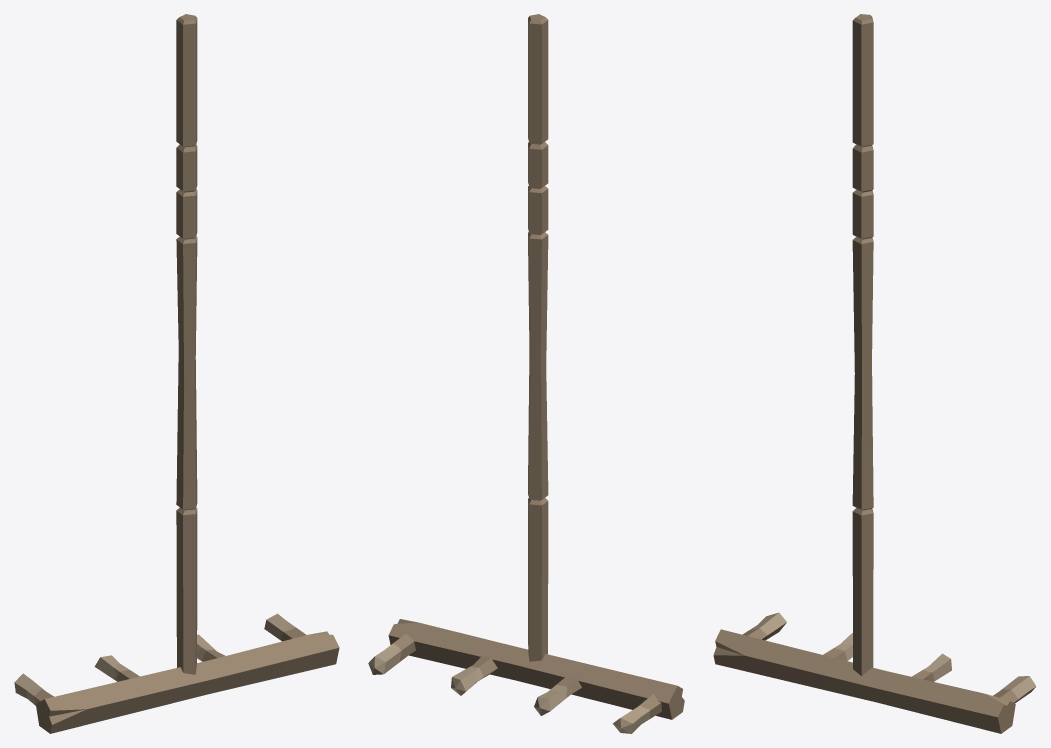
Rendered from samurai_SM_Prop_Rake_01.gltf.
3 renders of one model, left to right at view 1: azimuth 30°, elevation 25°; view 2: azimuth 150°, elevation 25°; view 3: azimuth 330°, elevation 25°, orthographic. The views are drawn at different scales.
Parts seen in each view (by area): view 1: SM_Prop_Rake_01; view 2: SM_Prop_Rake_01; view 3: SM_Prop_Rake_01.
Boxes of the visible parts, x1=… form: SM_Prop_Rake_01: x1=14, y1=14, x2=339, y2=733; SM_Prop_Rake_01: x1=368, y1=14, x2=684, y2=733; SM_Prop_Rake_01: x1=713, y1=14, x2=1036, y2=733.
Bounding box in the file's own units: 0.6447 × 1.46 × 0.1968.
1 material, 1 textured.
